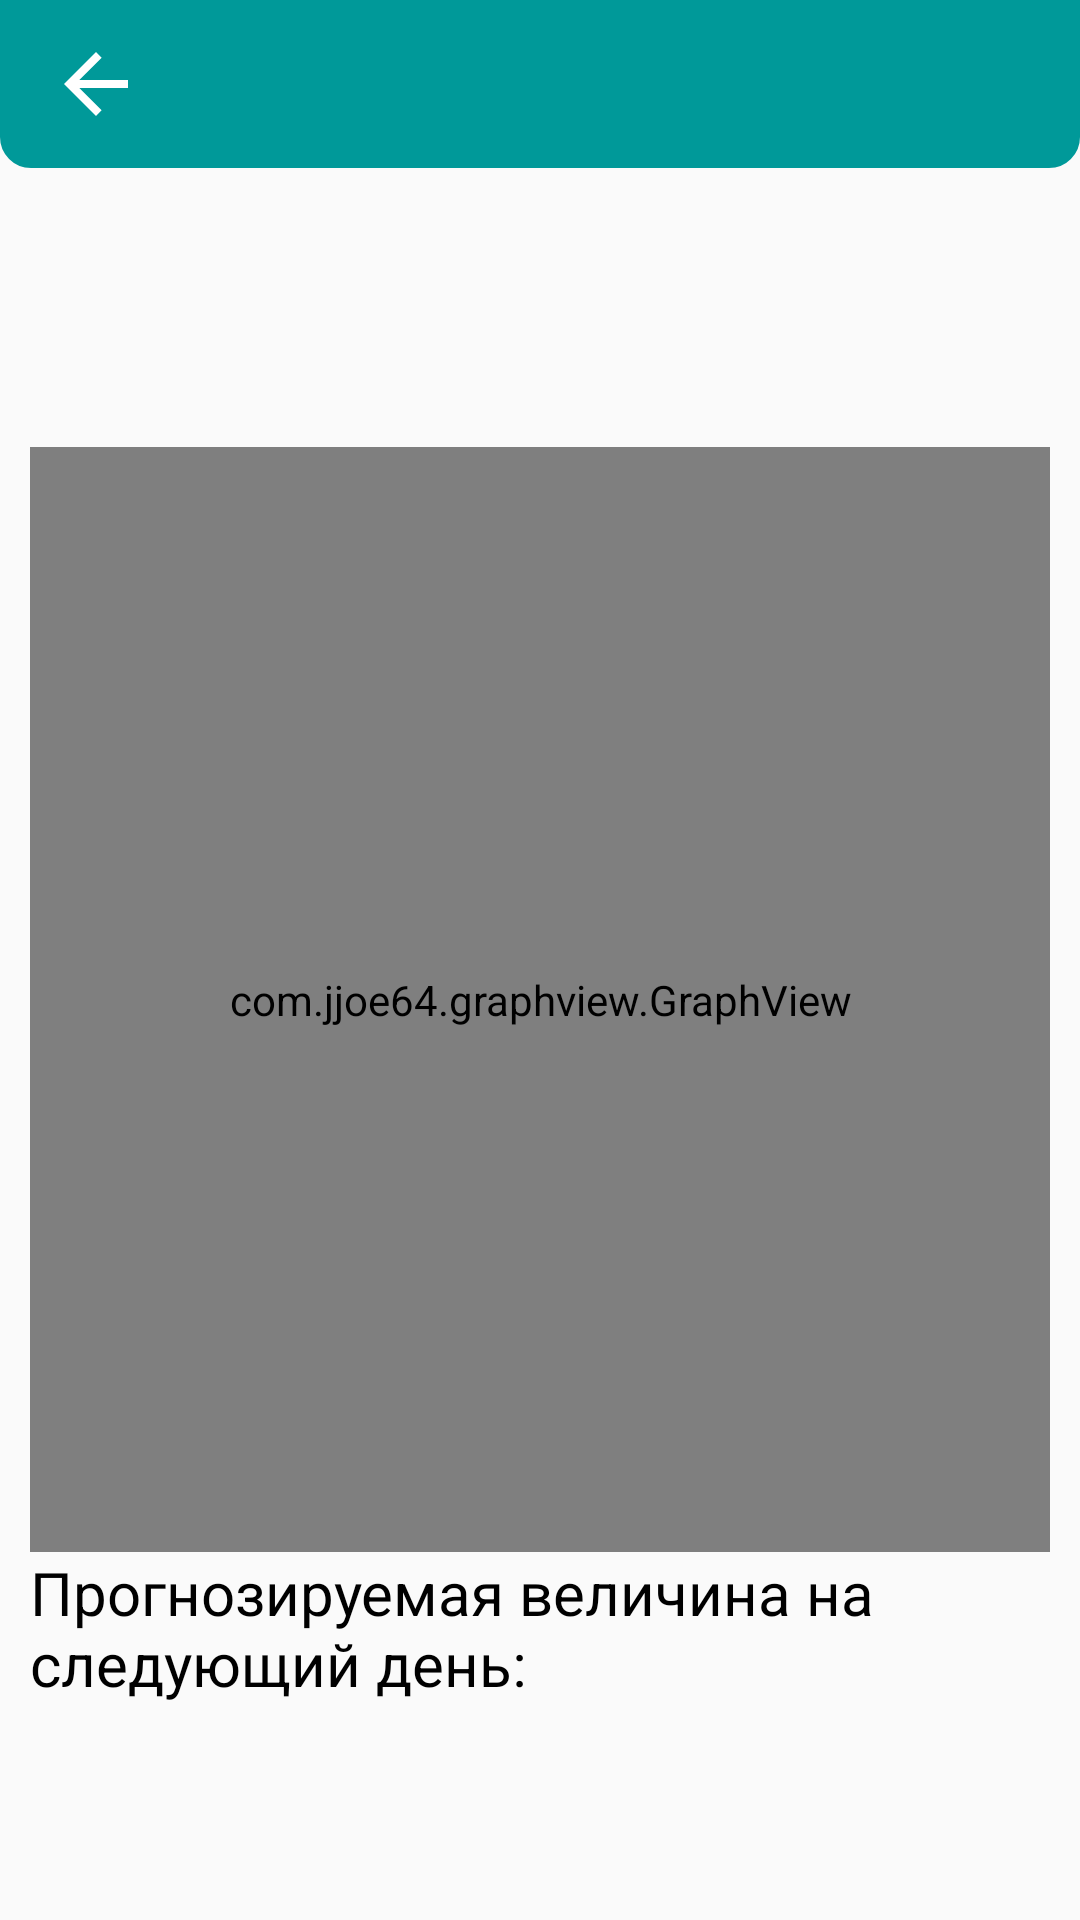

Icon bounding boxes for this 1080w x 1920h phone screenshot, format Rect(x1, y1, x2, y2):
arrow back: Rect(64, 52, 128, 116)
